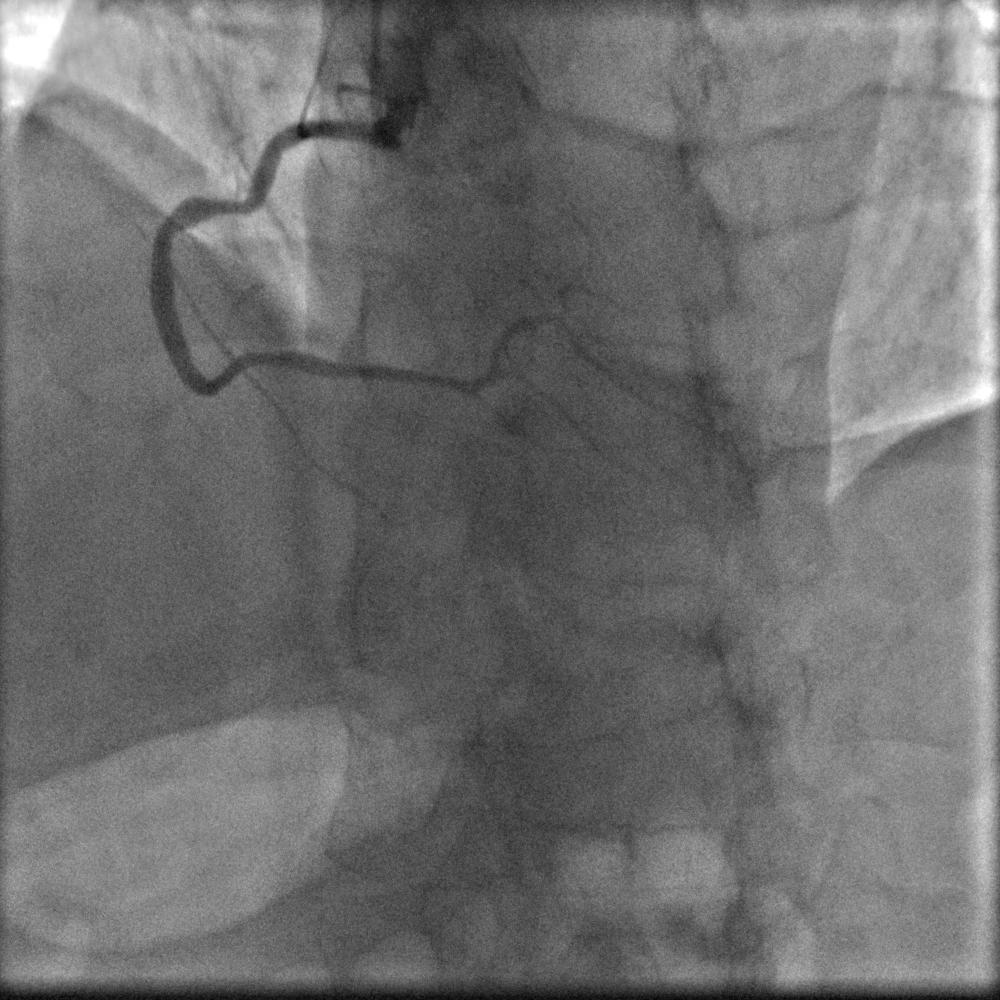Stenosis: (153, 214, 183, 246)
